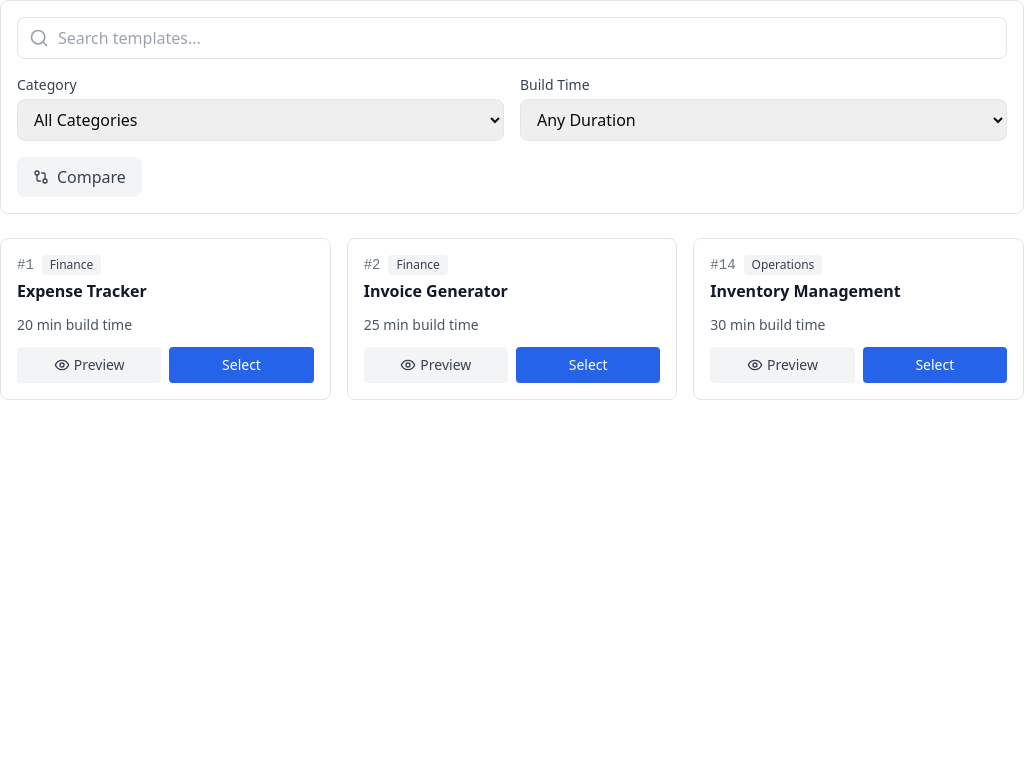
Test case: TemplateSelector › Template Selection › should allow selecting a template
Note: Find and click the Select button on a template
Click the button "Select" below "30" at (935, 365), box [863,347,1007,383]
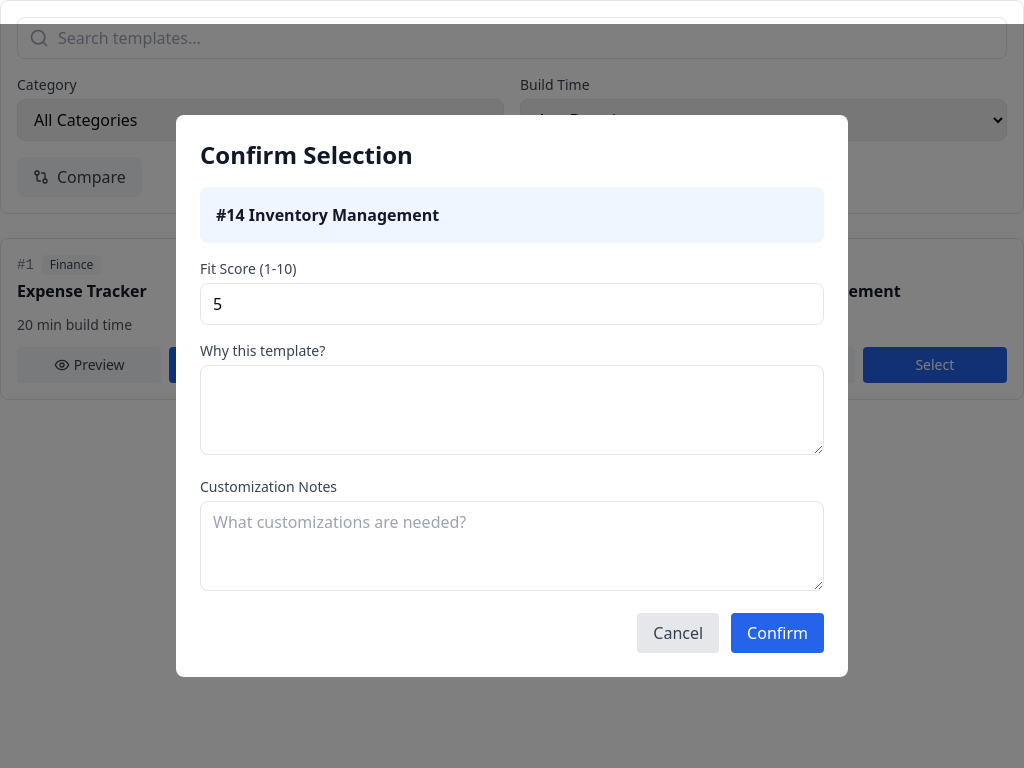
Check: the heading "Confirm Selection" is shown, box [200,138,413,171]
